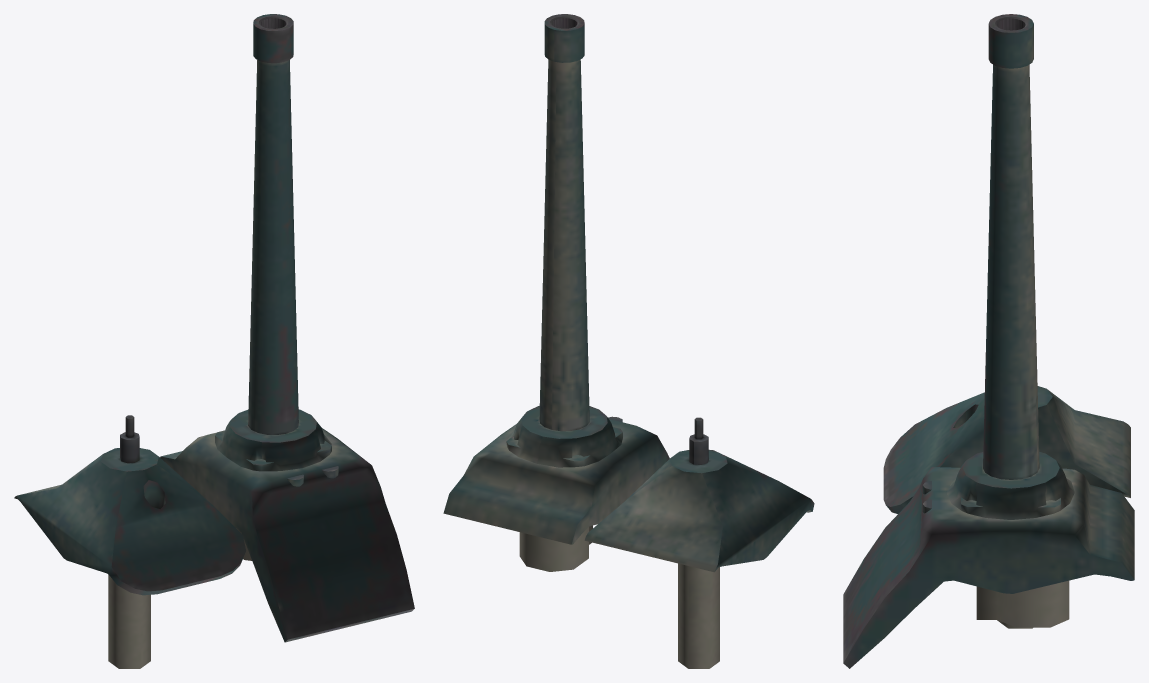
File: Gun_05.glb
The picture shows the model from 3 angles, left to right: view 1: azimuth 30°, elevation 25°; view 2: azimuth 150°, elevation 25°; view 3: azimuth 270°, elevation 25°; orthographic projection. The views are drawn at different scales.
Parts seen in each view (by area): view 1: set_0_group_0; view 2: set_0_group_0; view 3: set_0_group_0.
Boxes of the visible parts, box(x1,y1,x2,y2) form: set_0_group_0: box(14, 14, 414, 668); set_0_group_0: box(443, 14, 814, 668); set_0_group_0: box(843, 14, 1134, 668).
Bounding box in the file's own units: 0.5642 × 1.2 × 0.4736.
1 material, 1 textured.
